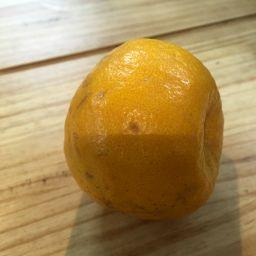Ripe: (65, 36, 225, 218)
